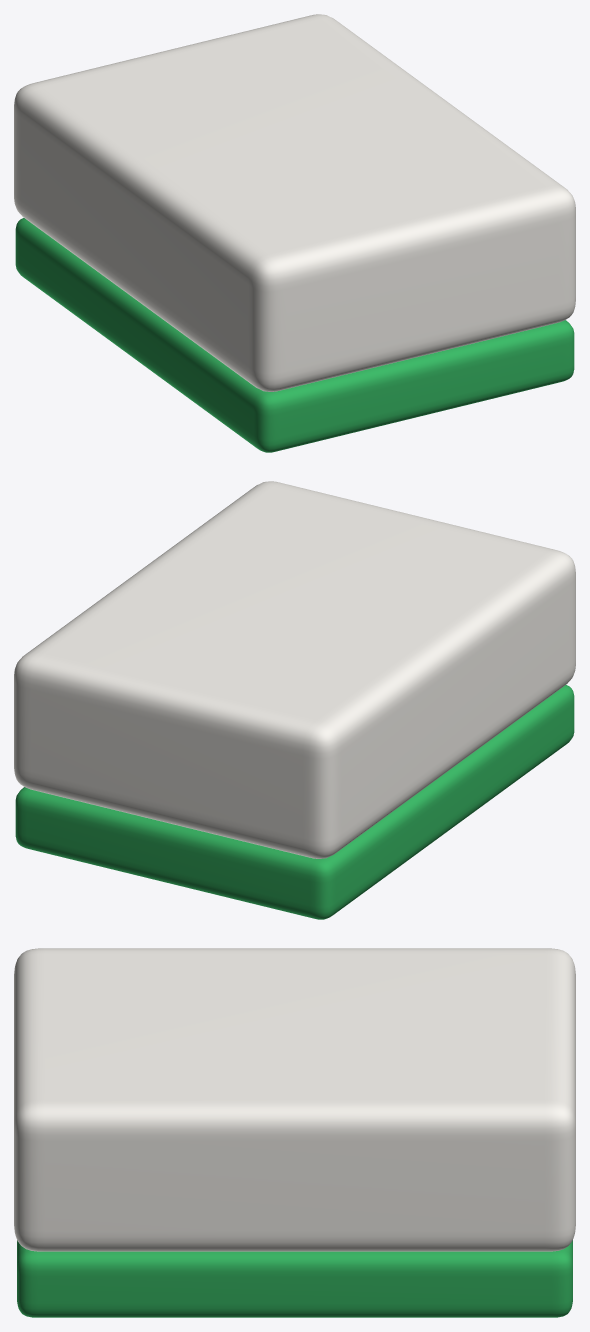
Rendered from mahjong_tile_body.glb.
The picture shows the model from 3 angles, top to bottom: view 1: azimuth 30°, elevation 25°; view 2: azimuth 150°, elevation 25°; view 3: azimuth 270°, elevation 25°; orthographic projection. The views are drawn at different scales.
Visible parts, largest first — view 1: MahjongTileBody, MahjongTileBack; view 2: MahjongTileBody, MahjongTileBack; view 3: MahjongTileBody, MahjongTileBack.
Boxes of the visible parts, box(x1,y1,x2,y2) form: MahjongTileBody: box(14, 14, 575, 391); MahjongTileBack: box(15, 218, 574, 452); MahjongTileBody: box(14, 481, 575, 858); MahjongTileBack: box(15, 685, 574, 919); MahjongTileBody: box(14, 948, 575, 1251); MahjongTileBack: box(17, 1240, 572, 1317).
Size of the model in its own units: 0.42 by 0.24 by 0.58.
